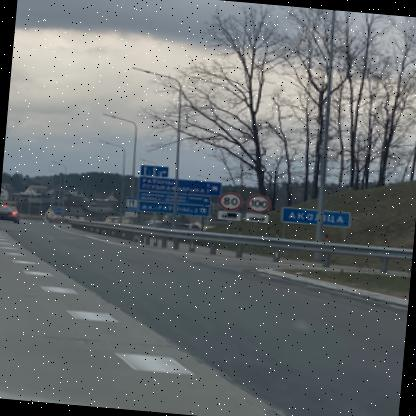speedlimit: (216, 190, 242, 210), (245, 192, 269, 212)
